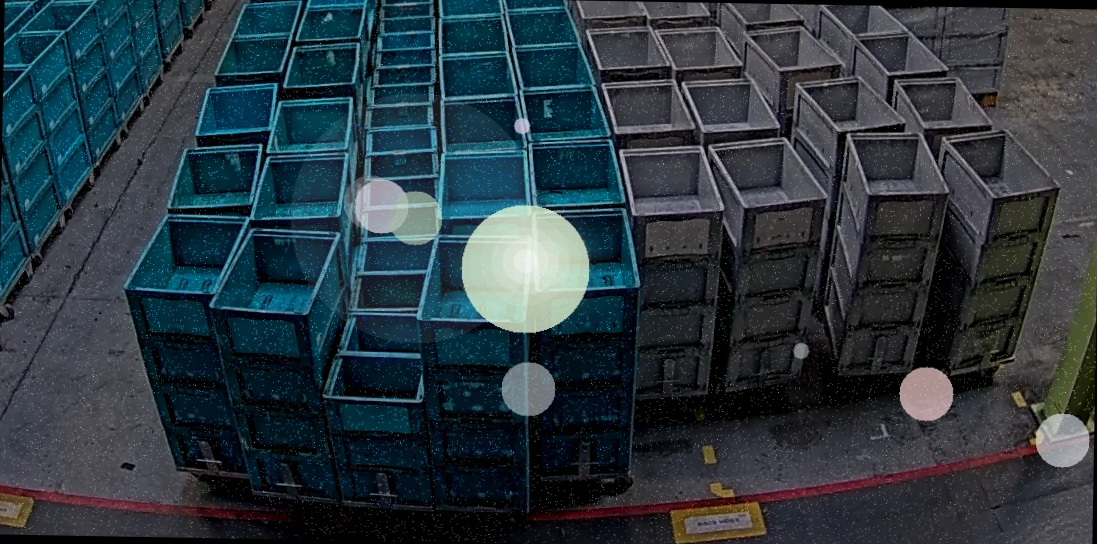4G: (923, 125, 1063, 372), (701, 136, 831, 391), (820, 131, 951, 375), (613, 143, 727, 398)
B4: (206, 224, 352, 503), (118, 213, 252, 475), (412, 231, 537, 511), (525, 207, 642, 479)
B8: (319, 310, 440, 508)
